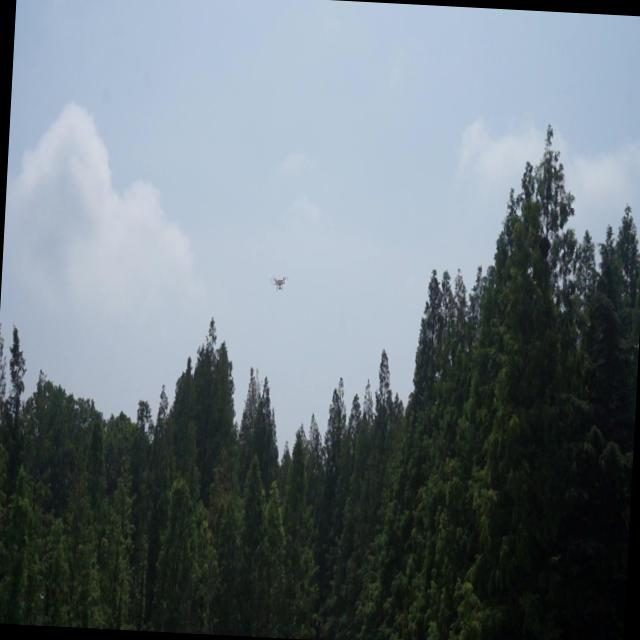drone: (270, 274, 290, 292)
